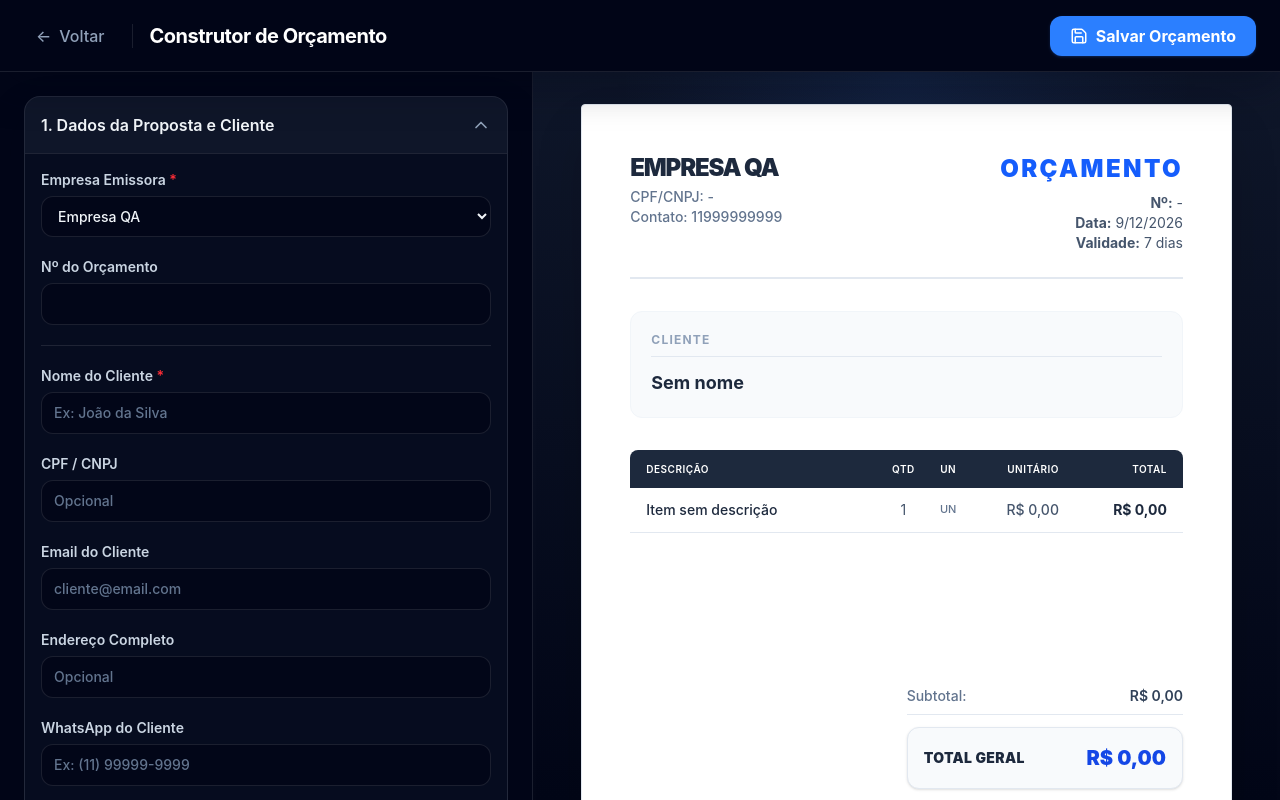
Test case: BudgetPage validation flows › blocks saving when no client is selected
Click the button "Salvar Orçamento" at (1153, 36), box [1050, 16, 1256, 56]
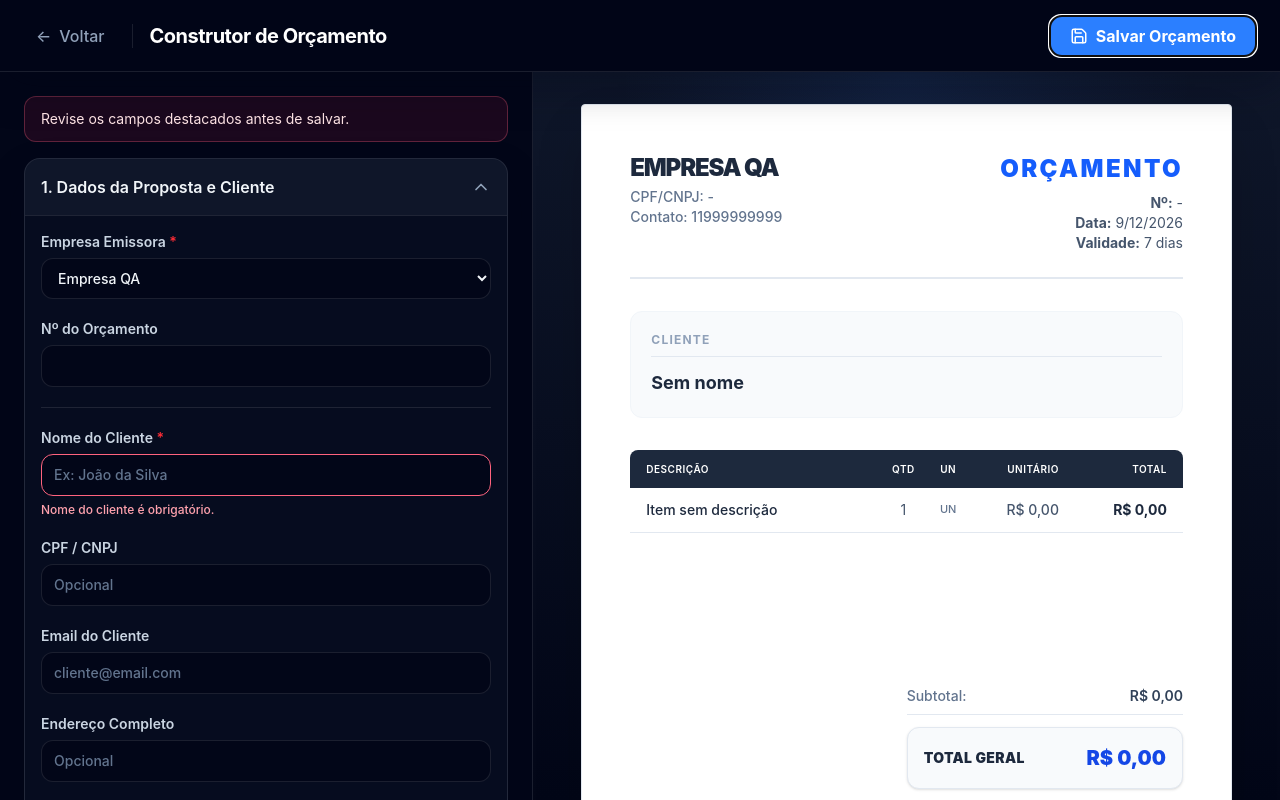
Check: the text "Nome do cliente é obrigatório." is shown, box [41, 502, 214, 517]
